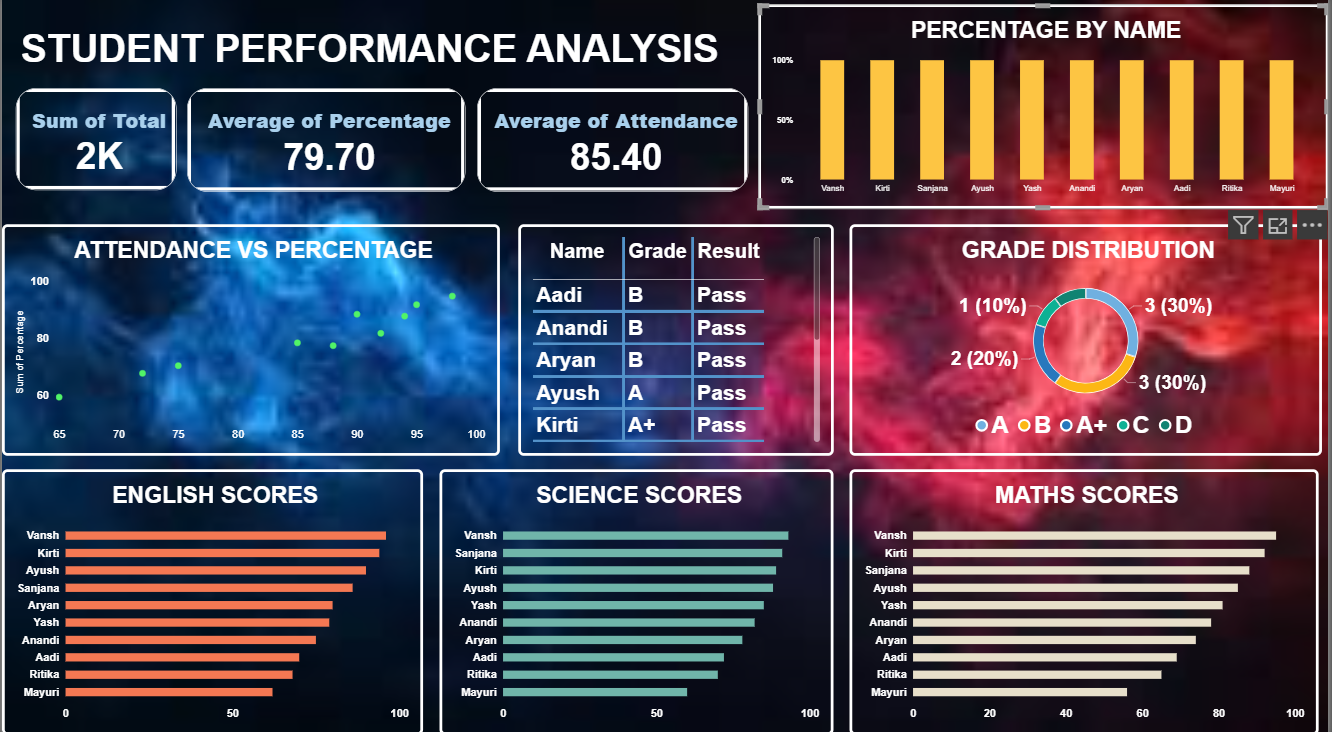

This screenshot's page, from the dashboard's own definition file:
{"tool":"powerbi","page":{"name":"Page 1","canvas":[1920,1080],"ordinal":0},"visuals":[{"type":"textbox","title":"STUDENT PERFORMANCE ANALYSIS","box":[26.8,49.4,1053.9,133.8],"z":0},{"type":"cardVisual","fields":{"Data":["Sum(Student_Performance.Total)"]},"box":[20.6,137.9,232.6,148.2],"z":1000},{"type":"cardVisual","fields":{"Data":["Avg(Student_Performance.Percentage)"]},"box":[267.6,137.9,403.4,150.3],"z":2000},{"type":"cardVisual","fields":{"Data":["Avg(Student_Performance.Attendance)"]},"box":[687.5,137.9,393.1,150.3],"z":3000},{"type":"hundredPercentStackedColumnChart","title":"SUM OF PERCENTAGE BY NAME","fields":{"Category":["Student_Performance.Name"],"Y":["Sum(Student_Performance.Percentage)"]},"box":[1094.8,16.3,825.4,296.4],"z":4000},{"type":"scatterChart","title":"ATTENDANCE VS PERCENTAGE","fields":{"X":["Student_Performance.Attendance"],"Y":["Sum(Student_Performance.Percentage)"]},"box":[0,335.5,720.4,335.5],"z":5000},{"type":"tableEx","fields":{"Values":["Student_Performance.Name","Student_Performance.Grade","Student_Performance.Result"]},"box":[747.2,335.5,456.9,335.5],"z":6000},{"type":"donutChart","title":"GRADE DISTRIBUTION","fields":{"Category":["Student_Performance.Grade"],"Y":["CountNonNull(Student_Performance.Grade)"]},"box":[1226.8,335.5,684,335.5],"z":7000},{"type":"barChart","title":"ENGLISH SCORES","fields":{"Y":["Sum(Student_Performance.English)"],"Category":["Student_Performance.Name"]},"box":[0,689.5,609.3,384.9],"z":8000},{"type":"barChart","title":"SCIENCE SCORES","fields":{"Y":["Sum(Student_Performance.Science)"],"Category":["Student_Performance.Name"]},"box":[634,689.5,570.2,384.9],"z":9000},{"type":"barChart","title":"MATHS SCORES","fields":{"Category":["Student_Performance.Name"],"Y":["Sum(Student_Performance.Maths)"]},"box":[1226.8,689.5,679.2,384.9],"z":10000}]}

Visuals, with their boxes in screenshot pixels (x1, y1, x2, y2), scaled from the page's 1920x1080 canvas onto the 1332x732 screenshot:
"STUDENT PERFORMANCE ANALYSIS" textbox: [19,33,750,124]
cardVisual - Sum(Student_Performance.Total): [14,93,176,194]
cardVisual - Avg(Student_Performance.Percentage): [186,93,466,195]
cardVisual - Avg(Student_Performance.Attendance): [477,93,750,195]
"SUM OF PERCENTAGE BY NAME" hundredPercentStackedColumnChart: [760,11,1331,212]
"ATTENDANCE VS PERCENTAGE" scatterChart: [0,227,500,455]
tableEx - Student_Performance.Name x Student_Performance.Grade: [518,227,835,455]
"GRADE DISTRIBUTION" donutChart: [851,227,1326,455]
"ENGLISH SCORES" barChart: [0,467,423,728]
"SCIENCE SCORES" barChart: [440,467,835,728]
"MATHS SCORES" barChart: [851,467,1322,728]
